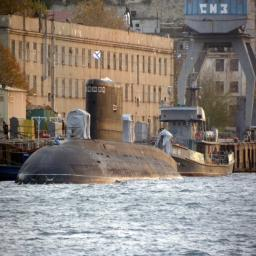submarine: (20, 81, 182, 184)
